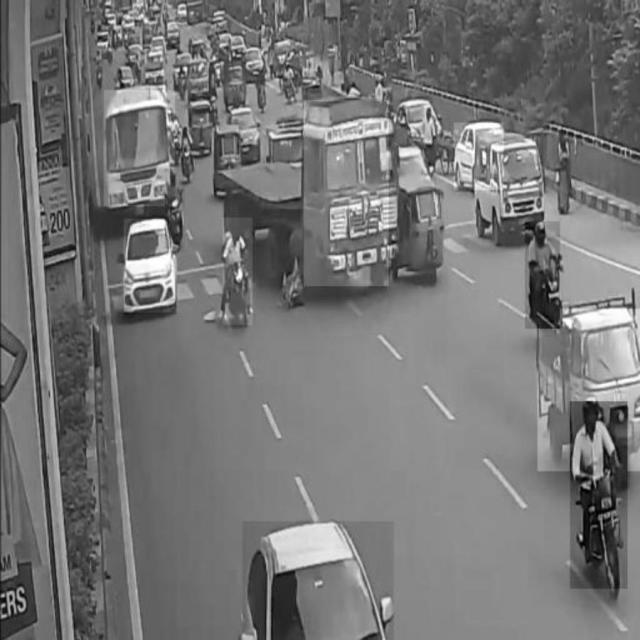person: (559, 137, 571, 210)
vehicle: (243, 522, 394, 640), (537, 308, 640, 470), (305, 101, 389, 287), (571, 402, 628, 589), (104, 90, 175, 206), (476, 136, 542, 240), (124, 220, 178, 313), (525, 222, 561, 330), (401, 182, 441, 276), (454, 123, 504, 190), (222, 217, 252, 325), (165, 169, 185, 249)
